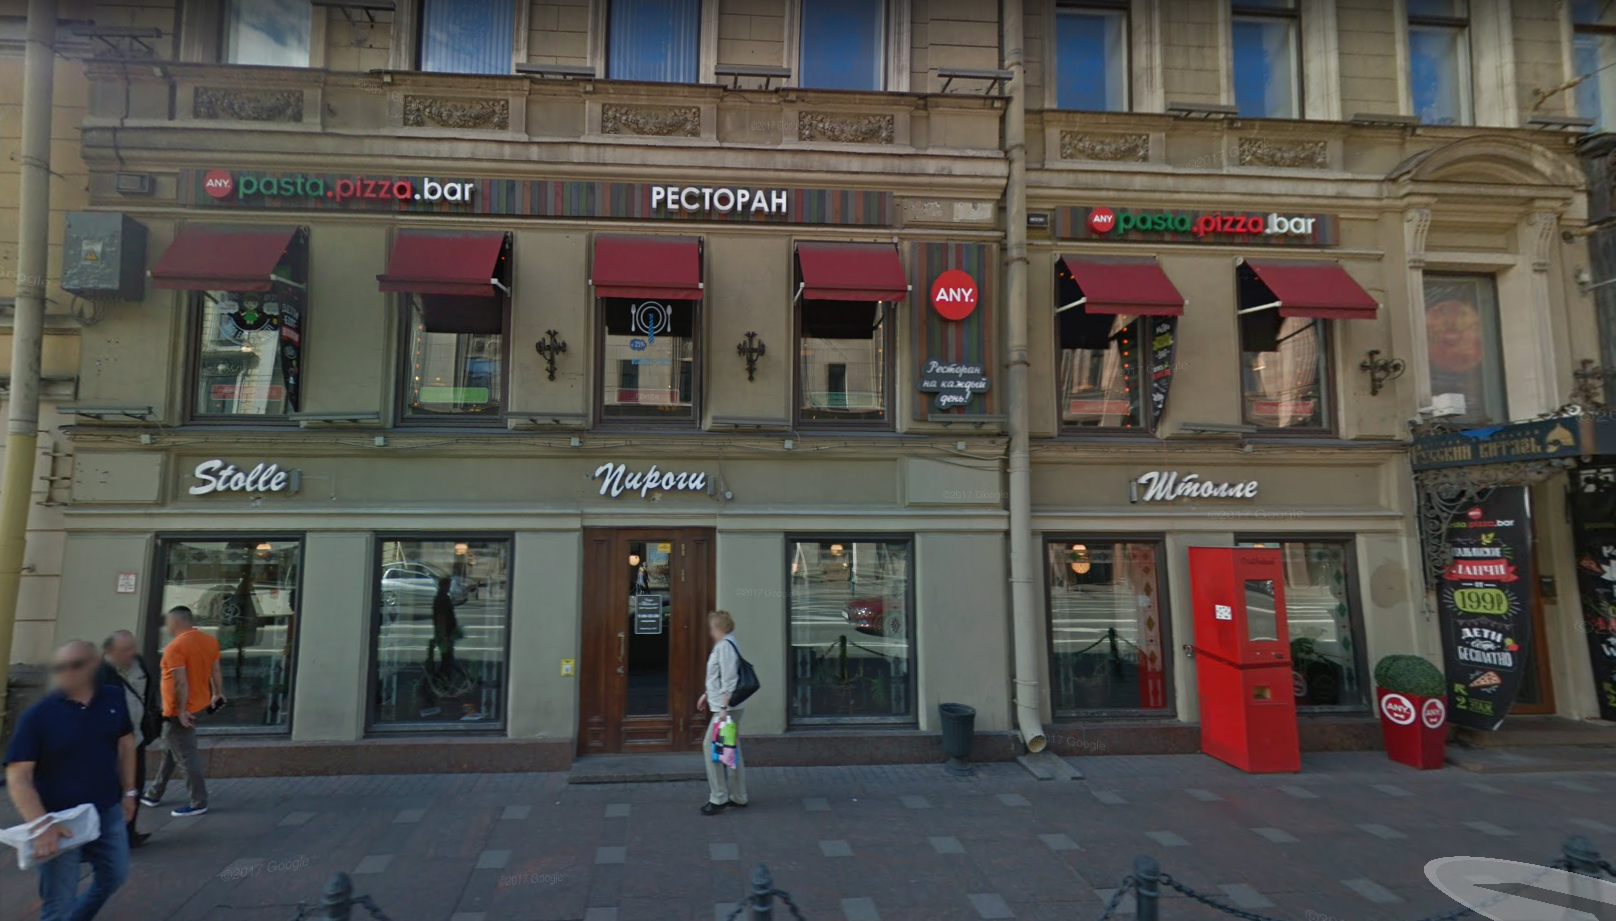door: (587, 527, 713, 765)
signboard: (194, 155, 900, 227), (907, 239, 994, 424), (1054, 198, 1344, 249), (1401, 431, 1603, 464), (1121, 463, 1267, 507), (180, 451, 297, 496), (586, 457, 715, 498)
window: (776, 519, 925, 729), (368, 524, 506, 729), (160, 540, 294, 735), (1040, 529, 1176, 715), (186, 289, 290, 423), (396, 290, 499, 419), (1243, 306, 1344, 436), (599, 300, 696, 426), (1285, 532, 1352, 715), (1051, 303, 1147, 431), (791, 301, 886, 418)
